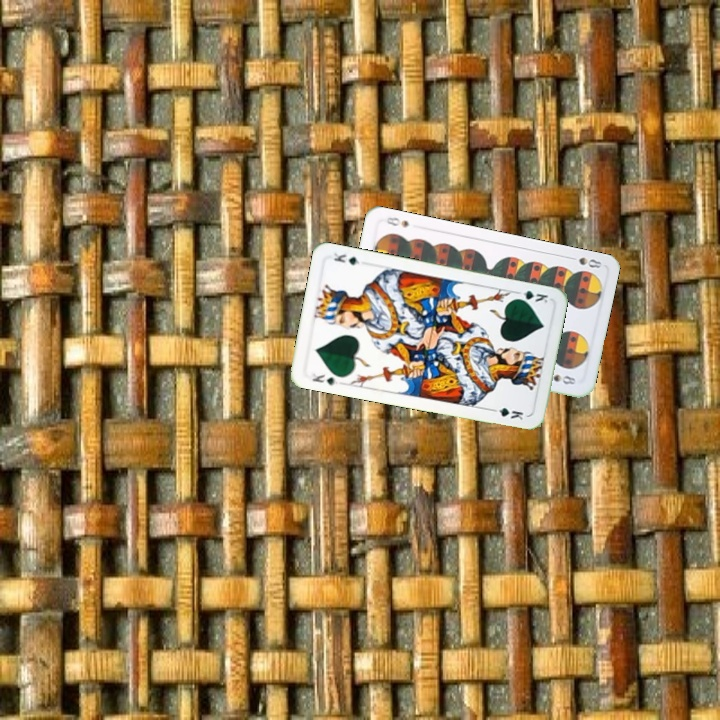GK: (511, 286, 550, 305), (308, 369, 341, 388)
S8: (564, 252, 604, 271)
